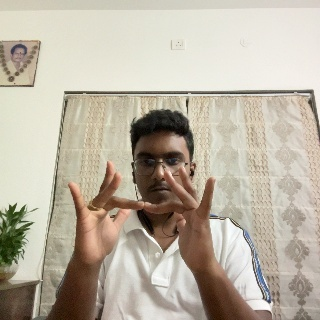Internet: (71, 161, 221, 278)
